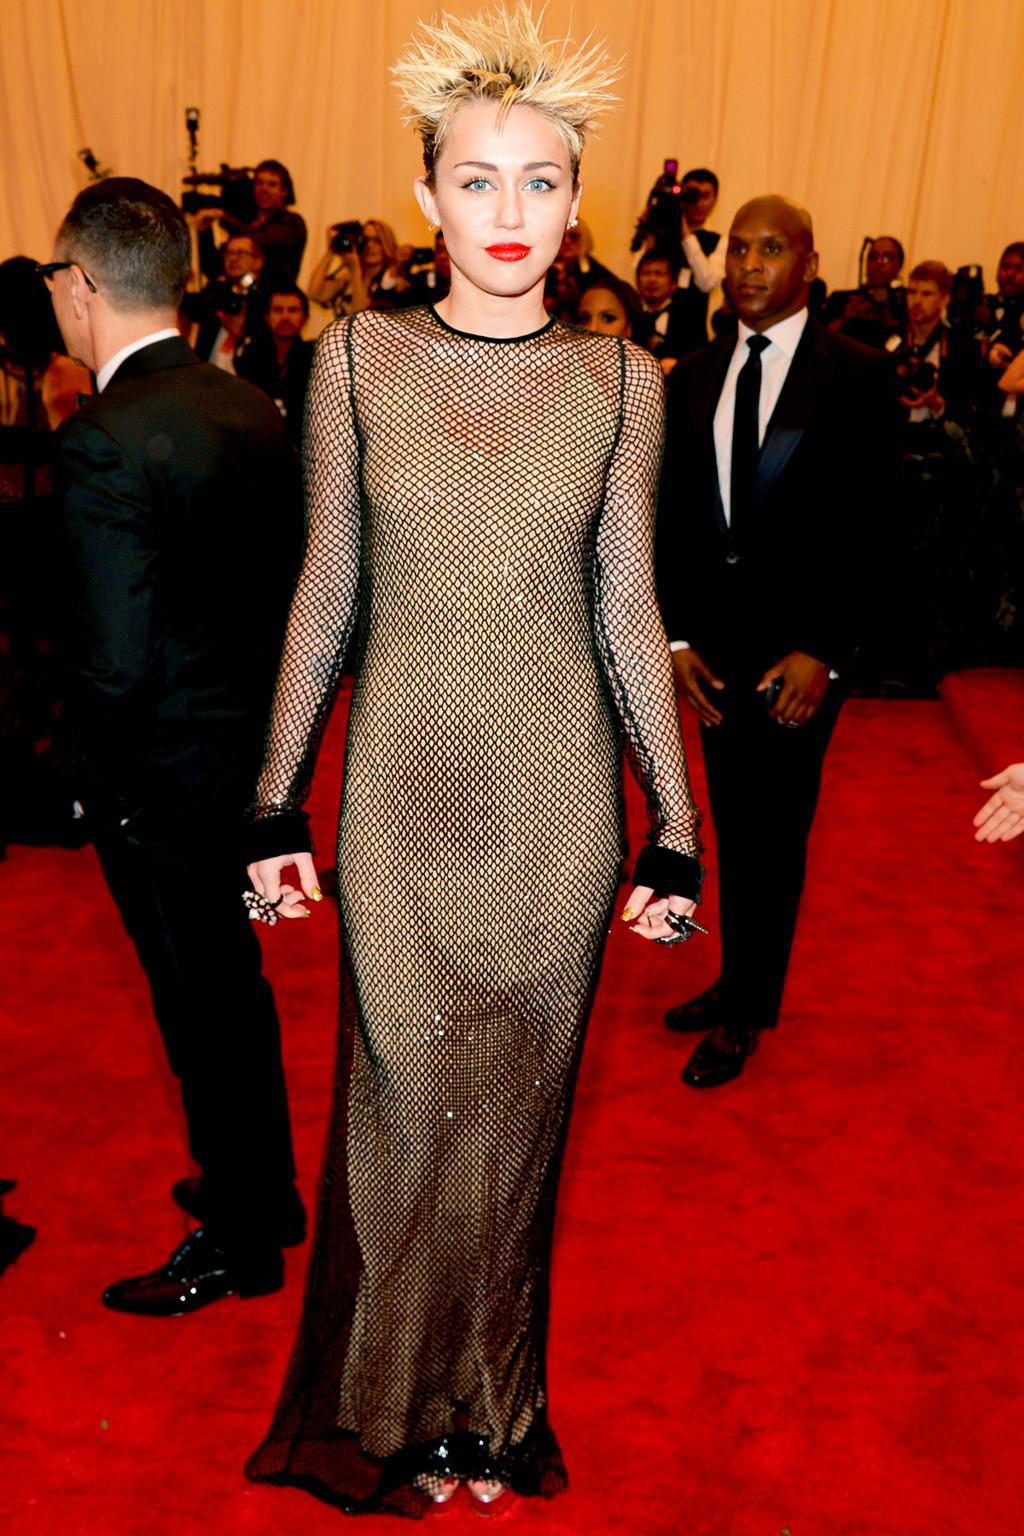face: (437, 124, 573, 296), (727, 220, 807, 314), (51, 258, 106, 354), (580, 298, 625, 356), (909, 279, 944, 321), (869, 241, 899, 285), (271, 297, 303, 336), (683, 185, 716, 221), (641, 260, 671, 298), (254, 173, 282, 208), (997, 257, 1024, 292), (226, 243, 253, 276), (361, 228, 384, 265)
